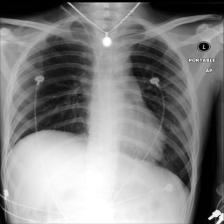normal: (5, 17, 196, 203)
